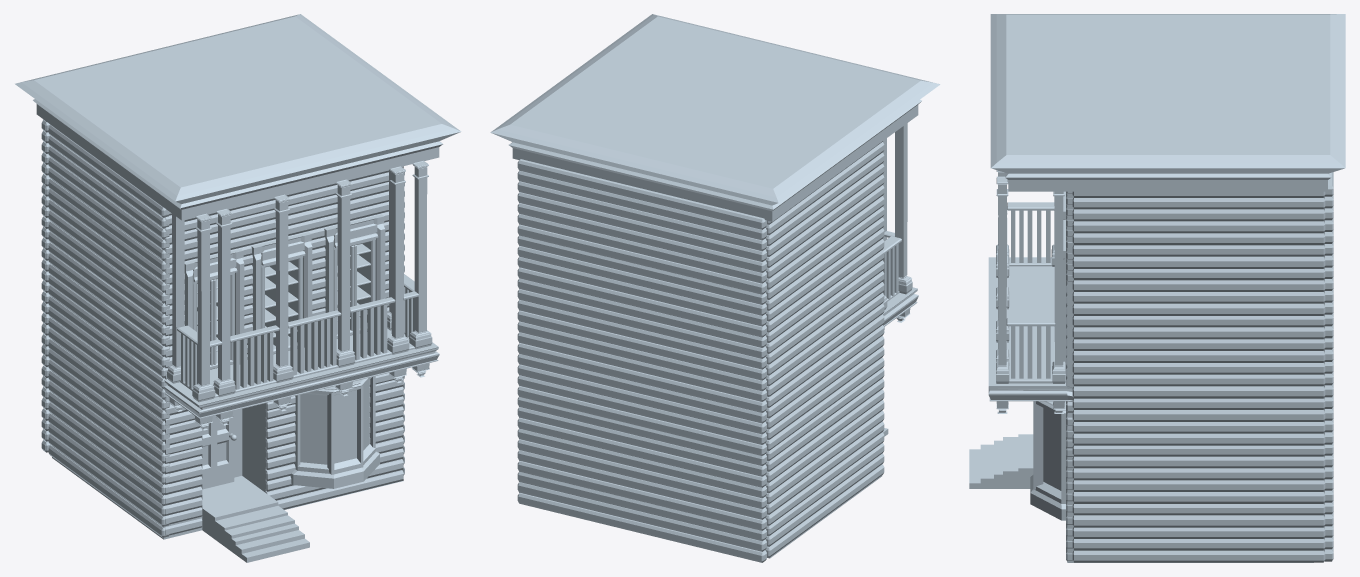
Rendered from House3.fbx.
3 renders of one model, left to right at view 1: azimuth 30°, elevation 25°; view 2: azimuth 150°, elevation 25°; view 3: azimuth 270°, elevation 25°, orthographic. The views are drawn at different scales.
Visible parts, largest first — view 1: pCube52, pCube179, pCube1, pCube184, pCube183, pCube54, pCube50, pCube49, pCube51, pCube2, pCube4, pCube3 (+10 smaller); view 2: pCube180, pCube52, pCube179, pCube2, pCube1, polySurface9; view 3: pCube178, pCube52, pCube1, pCube180, pCube54, pCube3, pCube8, pCube181, polySurface14, polySurface9, pCube184, pCube183.
Boxes of the visible parts, box(x1,y1,x2,y2) form: pCube52: box(15, 14, 461, 220); pCube179: box(48, 124, 169, 537); pCube1: box(52, 166, 439, 562); pCube184: box(164, 373, 403, 535); pCube183: box(164, 166, 403, 368); pCube54: box(290, 376, 379, 488); pCube50: box(324, 214, 385, 338); pCube49: box(251, 232, 312, 354); pCube51: box(184, 249, 244, 369); pCube2: box(192, 213, 215, 430); pCube4: box(387, 166, 409, 382); pCube3: box(409, 160, 432, 377); pCube180: box(517, 159, 766, 562); pCube52: box(490, 14, 940, 221); pCube179: box(765, 141, 884, 557); pCube2: box(895, 123, 912, 322); pCube1: box(767, 180, 918, 558); polySurface9: box(882, 244, 898, 299); pCube178: box(1072, 191, 1325, 562); pCube52: box(990, 14, 1345, 191); pCube1: box(969, 193, 1313, 562); pCube180: box(1324, 172, 1333, 561); pCube54: box(1030, 401, 1065, 520); pCube3: box(996, 176, 1009, 413); pCube8: box(1052, 191, 1065, 413); pCube181: box(1043, 408, 1061, 490); polySurface14: box(1011, 326, 1050, 378); polySurface9: box(1011, 210, 1050, 262); pCube184: box(1066, 401, 1073, 561); pCube183: box(1066, 191, 1073, 388).
Size of the model in its own units: 24.72 by 30.95 by 25.52.
